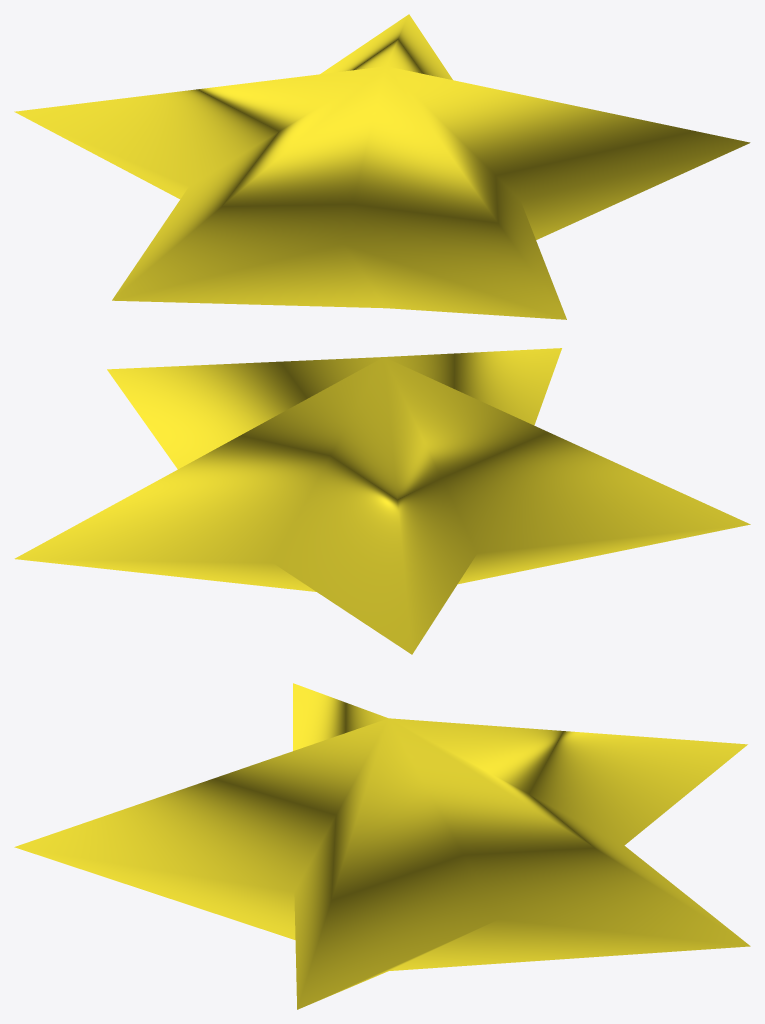
The model's file is Star.dae.
3 renders of one model, top to bottom at view 1: azimuth 30°, elevation 25°; view 2: azimuth 150°, elevation 25°; view 3: azimuth 270°, elevation 25°, orthographic. The views are drawn at different scales.
Visible parts, largest first — view 1: estrellica; view 2: estrellica; view 3: estrellica.
Boxes of the visible parts, left/top/right/bottom form: estrellica: left=14, top=14, right=750, bottom=319; estrellica: left=14, top=348, right=750, bottom=654; estrellica: left=14, top=683, right=750, bottom=1009.
Bounding box in the file's own units: 0.6975 × 0.2516 × 0.6646.
